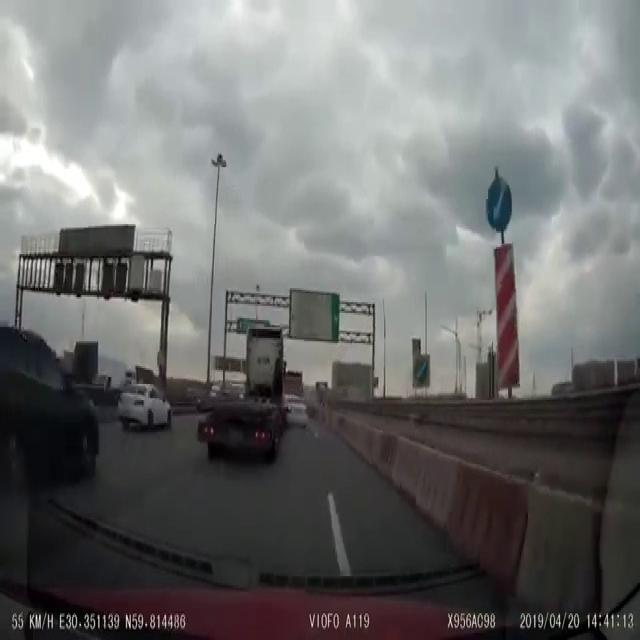severe: (192, 316, 308, 469)
